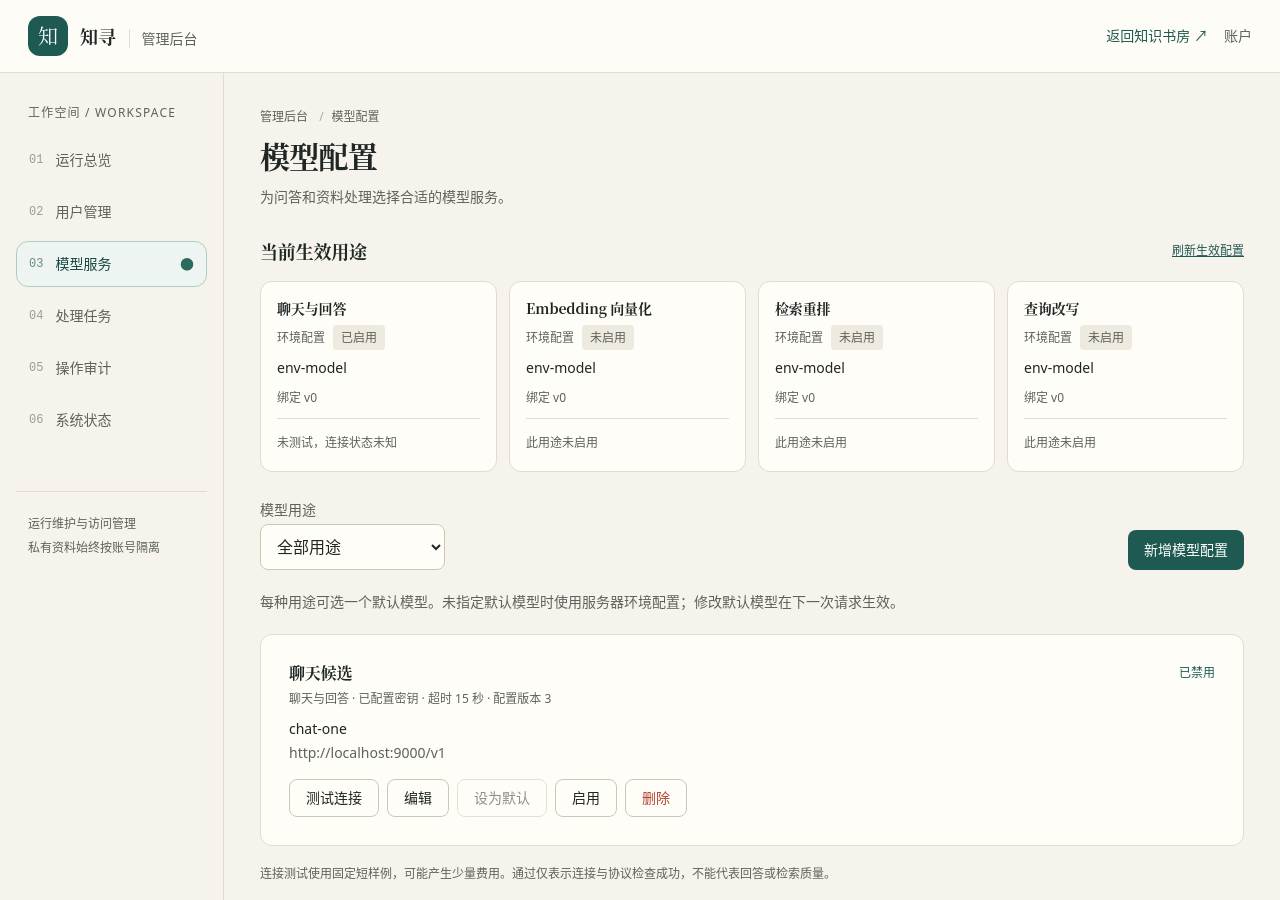
Scenario: 测试须确认费用且不改变默认
Click the button with test id "admin-model-test" at (334, 798), box x1=289 y1=779 x2=379 y2=817
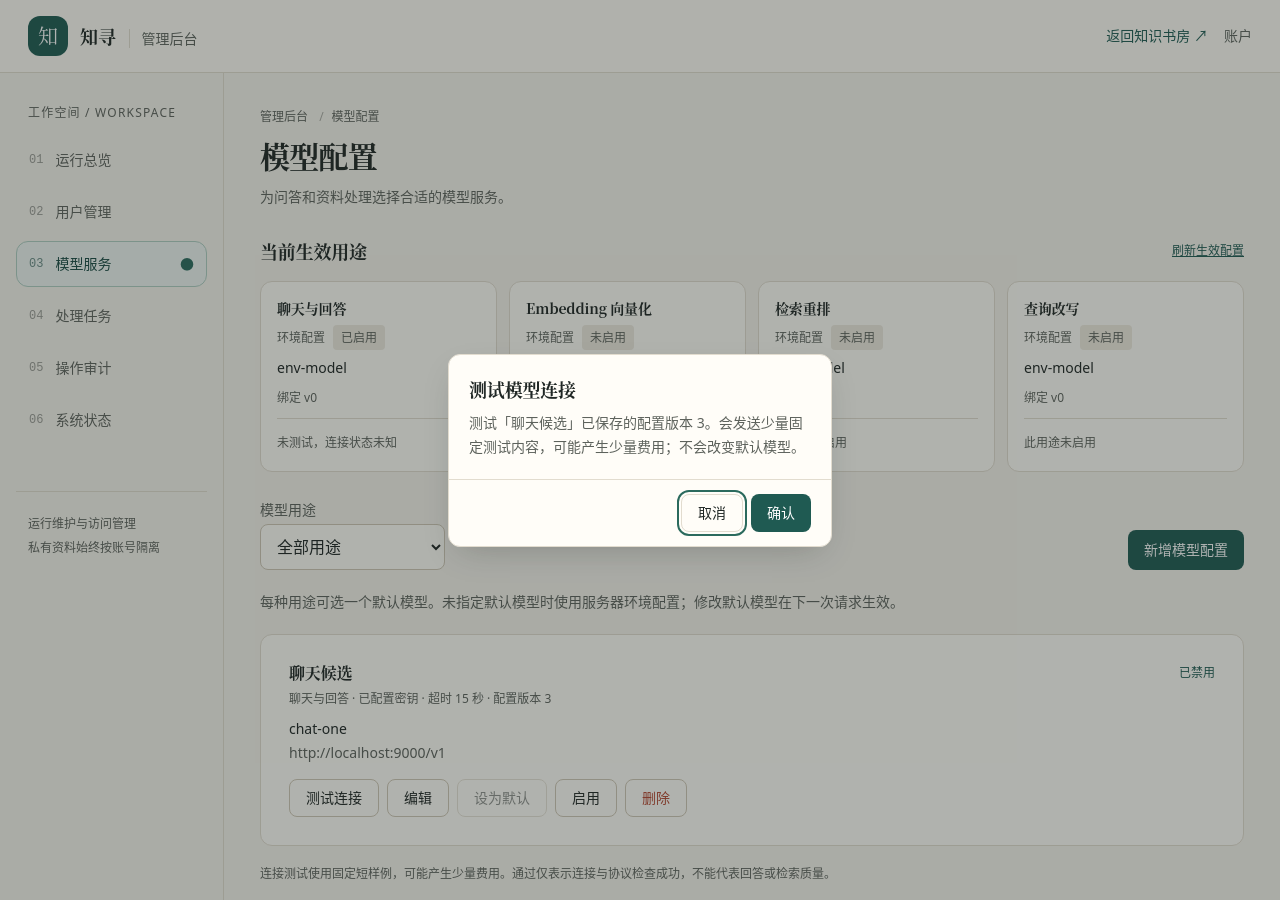
Expected: the text "少量费用" is shown, x1=260 y1=865 x2=836 y2=882
Click the button with test id "confirm-dialog-confirm-btn" at (781, 512), box x1=751 y1=494 x2=811 y2=532
(page scrolled)
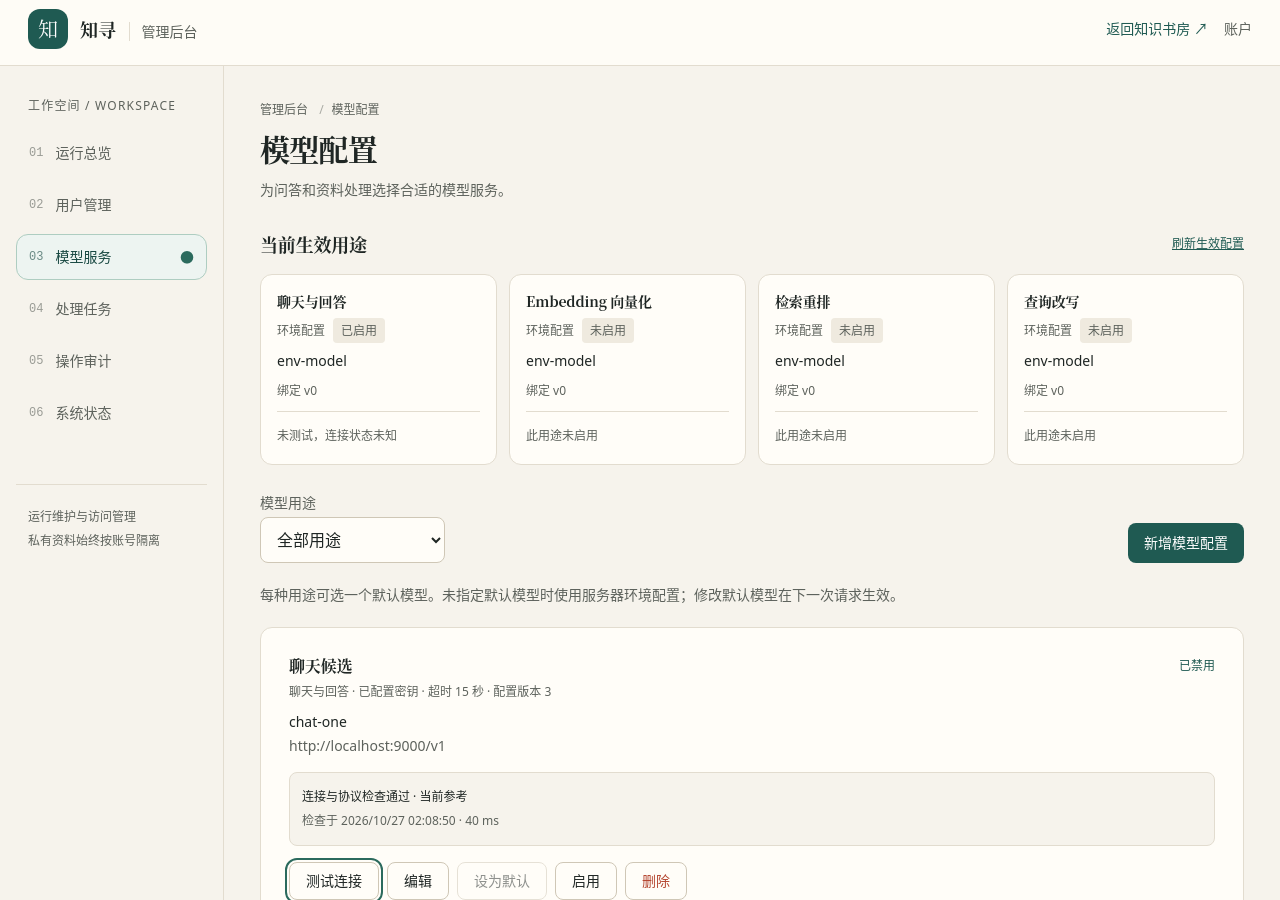
Now the text "连接与协议检查通过" is shown, box x1=302 y1=788 x2=468 y2=805
